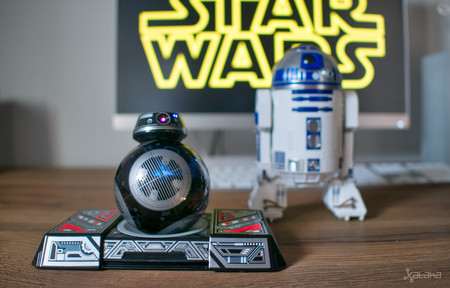r2d2: (254, 43, 367, 220)
